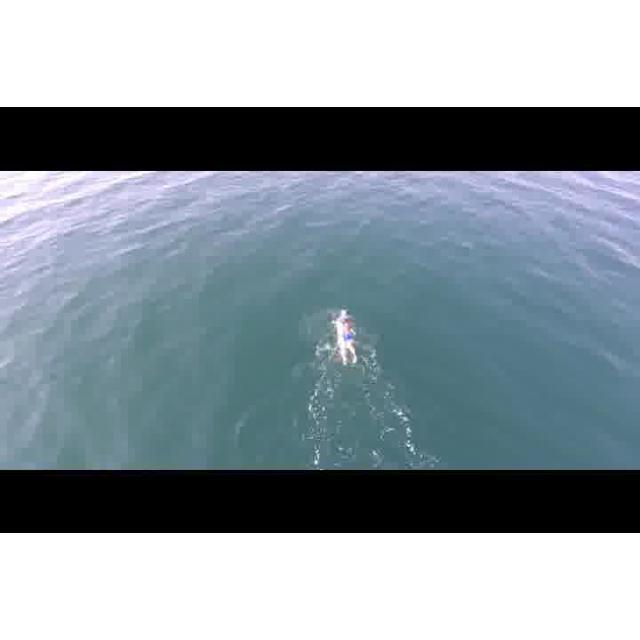human: (328, 312, 363, 373)
